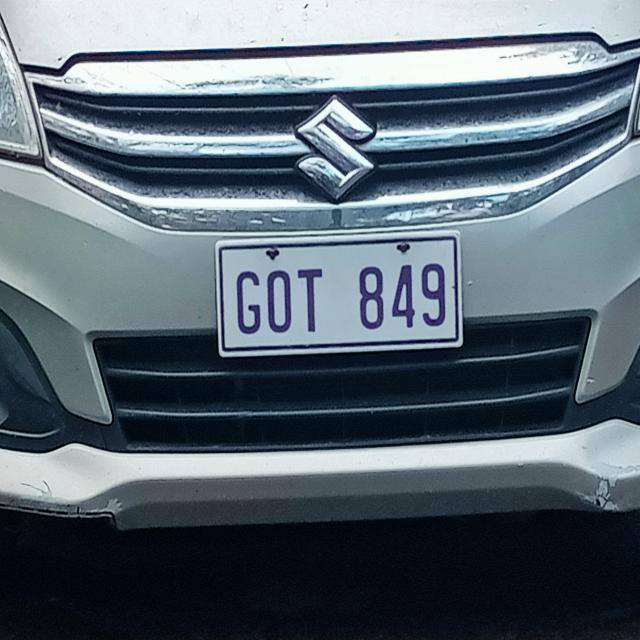LicensePlate: (203, 233, 465, 355)
